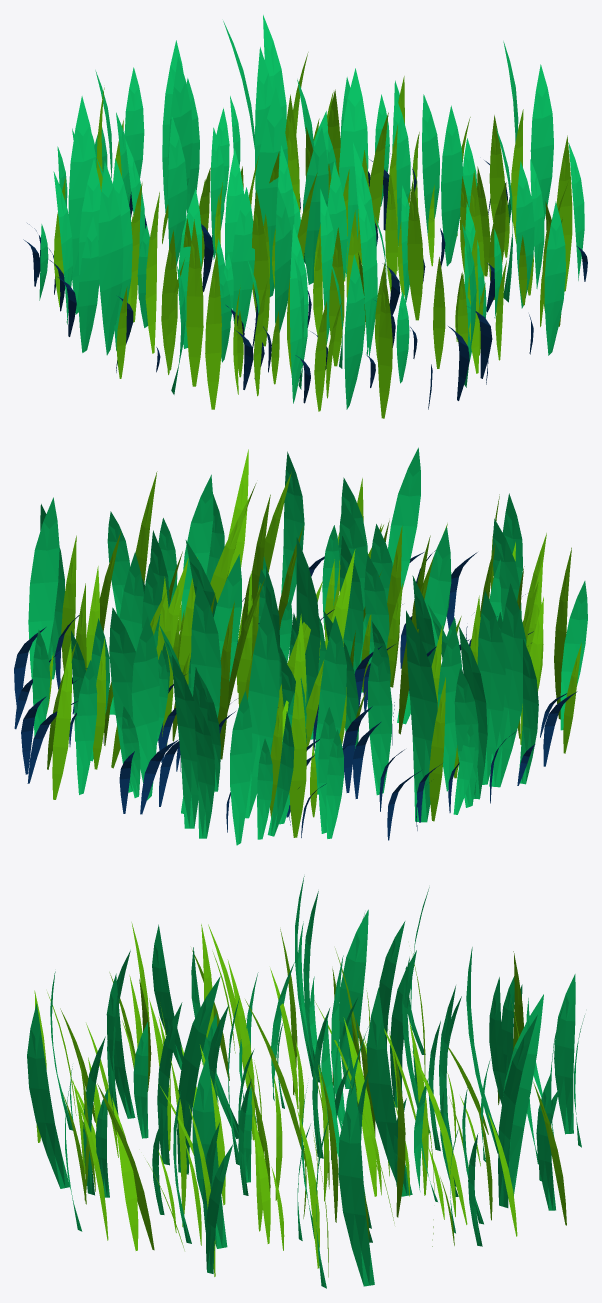
File: sm_grass_test_01.fbx
3 renders of one model, top to bottom at view 1: azimuth 30°, elevation 25°; view 2: azimuth 150°, elevation 25°; view 3: azimuth 270°, elevation 25°, orthographic.
Parts seen in each view (by area): view 1: sm_grass_test_01; view 2: sm_grass_test_01; view 3: sm_grass_test_01.
Part boxes in pixels (<box>): sm_grass_test_01: <box>23,15,587,418</box>; sm_grass_test_01: <box>14,447,587,845</box>; sm_grass_test_01: <box>27,876,584,1288</box>.
Size of the model in its own units: 207 by 85.05 by 205.
